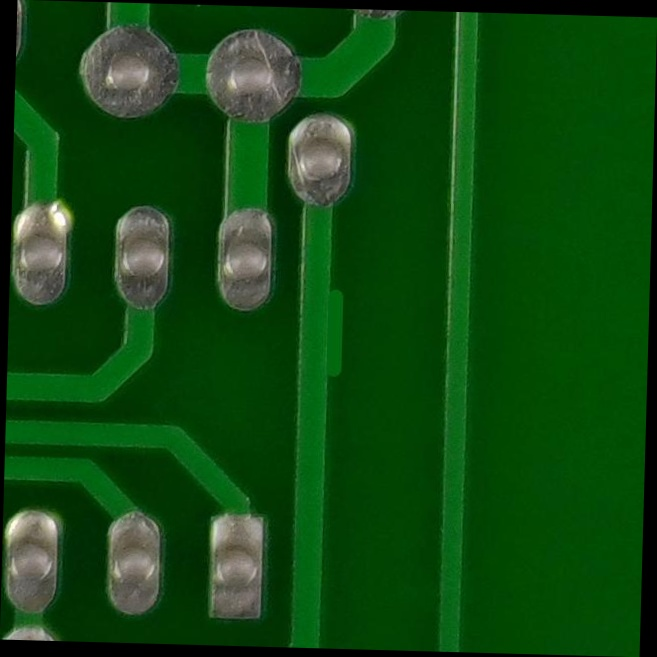spur: (285, 269, 372, 389)
